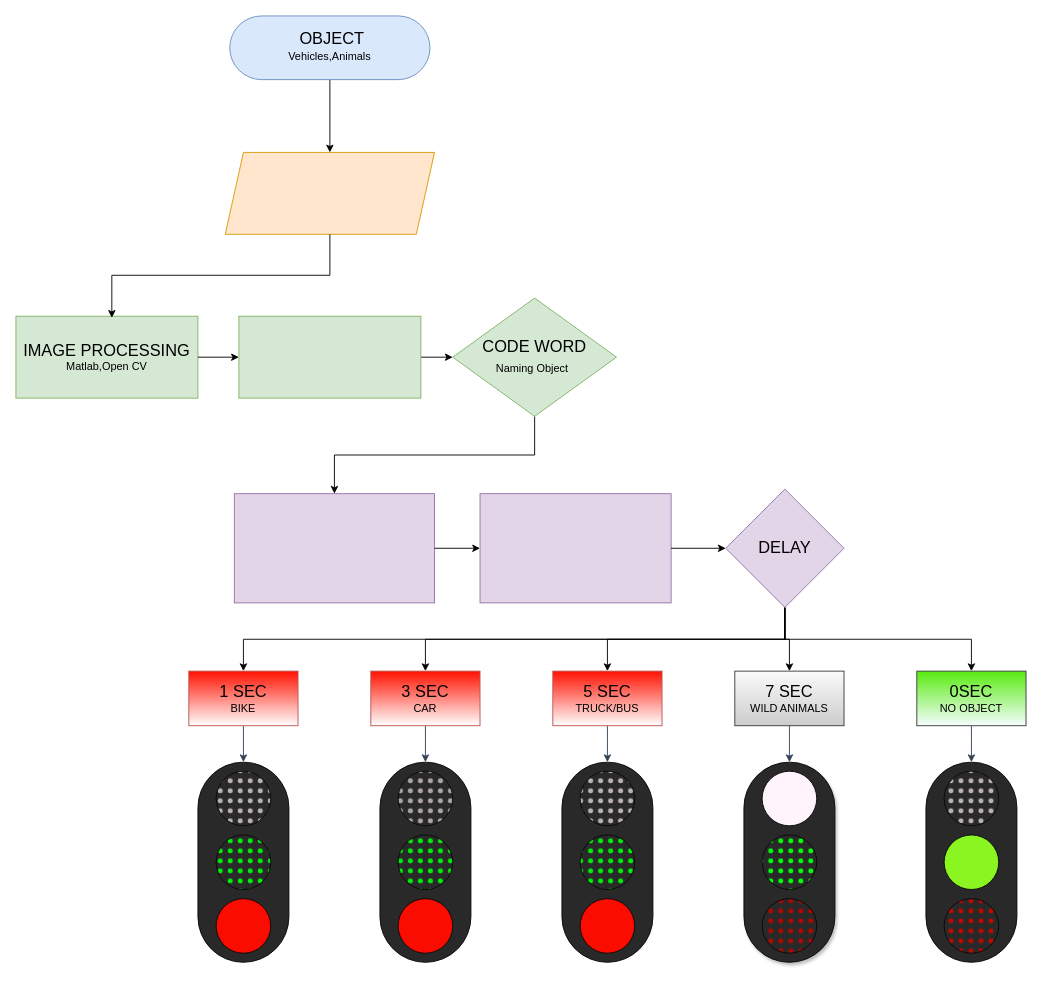
The diagram is 1042 pixels wide and 985 high, and some of its shapes have lost their labels. The shapes that lost their labels are listed below. From the top down, each one's centre as x and y in pixels, then its label:
At (329,193): "CAMERA MODULE ESP32,webcam".
At (329,356): "OBJECT DETECTION YOLO v4 ,COCO".
At (334,548): "SERIAL COMMUNICATION Hardware interfacing arduino uno".
At (575,548): "ASSIGNING DELAY different delay for code word".
